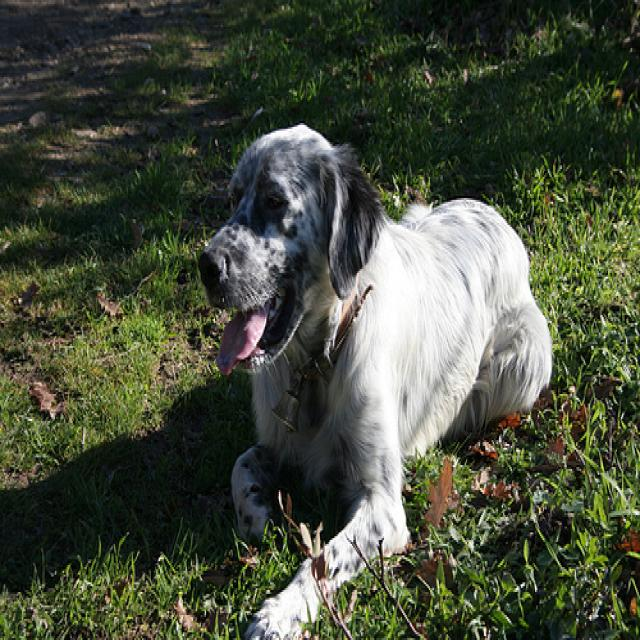dog-english_setter: (189, 115, 556, 636)
